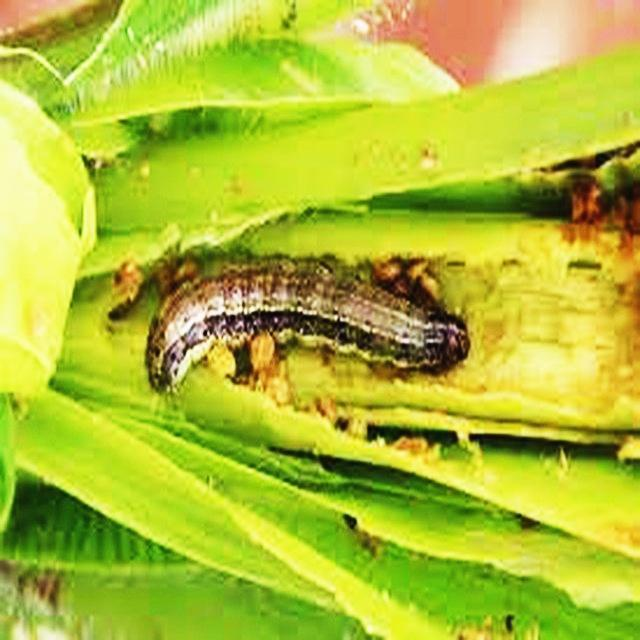gusano_cogollero: (142, 256, 474, 395)
